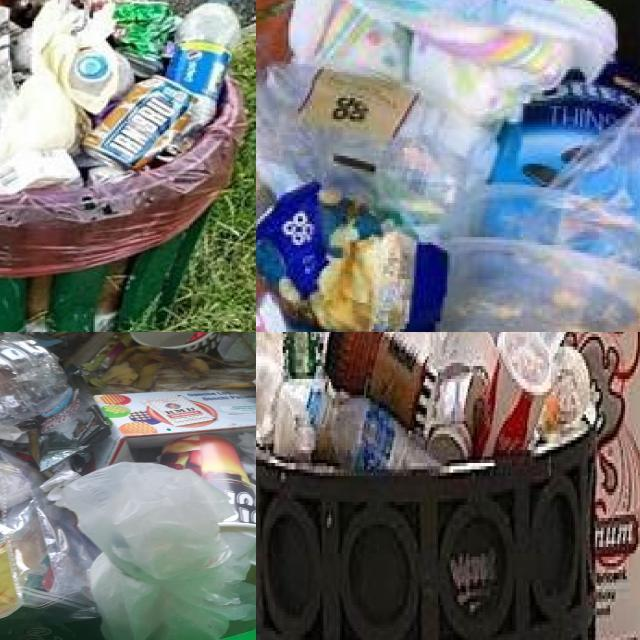Disposable: (324, 332, 426, 427), (475, 332, 553, 455)
Garbage: (256, 0, 640, 332), (0, 332, 256, 640), (256, 332, 589, 470)
Plastic_Bag: (62, 462, 256, 640), (482, 103, 640, 270)
Plastic_Container: (437, 238, 640, 332)
Plastic_bottle: (306, 379, 439, 474), (165, 0, 242, 101), (0, 334, 69, 430), (69, 42, 134, 114), (256, 353, 281, 447)
Plastic_wraper: (256, 65, 495, 242), (256, 182, 417, 332), (489, 63, 640, 186), (0, 449, 99, 618), (21, 365, 110, 470), (111, 1, 180, 76), (82, 332, 132, 372)
can: (83, 76, 193, 168)
